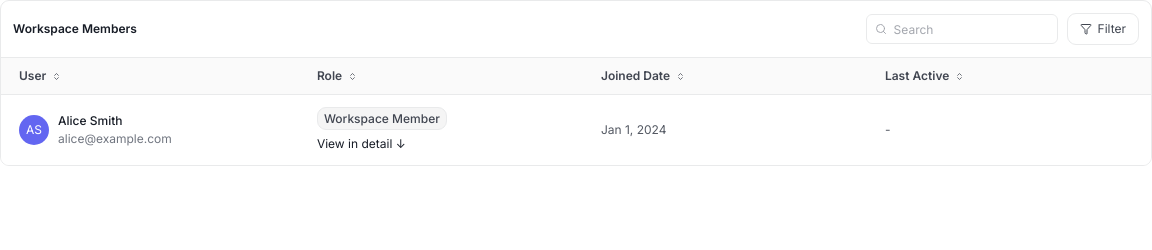
Test case: MembersTable › Expand access details › should toggle to Collapse when View in detail is clicked
The image size is (1152, 250).
Click the button "View in detail ↓" at (361, 144), box x1=317 y1=134 x2=406 y2=152
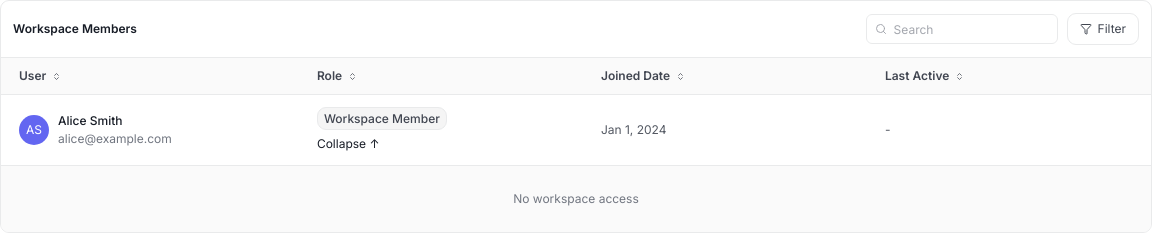
Expected: the button "Collapse ↑" is shown, x1=317 y1=134 x2=380 y2=152
